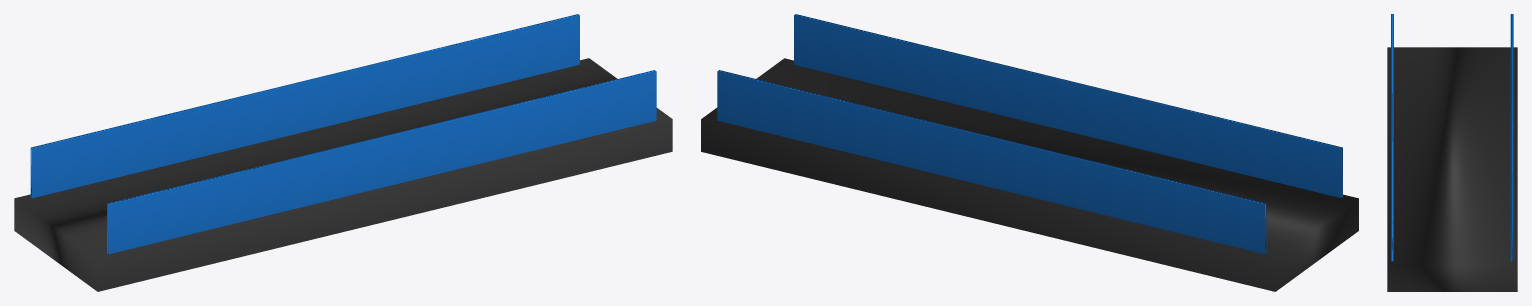
File: bridge.glb
3 views of the same model, side by side, from view 1: azimuth 30°, elevation 25°; view 2: azimuth 150°, elevation 25°; view 3: azimuth 270°, elevation 25° (orthographic). The views are drawn at different scales.
Visible parts, largest first — view 1: Cube, Cube.001, Cube.002; view 2: Cube, Cube.002, Cube.001; view 3: Cube, Cube.002, Cube.001.
Part boxes in pixels (x1=…): Cube: x1=14, y1=58, x2=672, y2=291; Cube.001: x1=107, y1=70, x2=656, y2=254; Cube.002: x1=30, y1=14, x2=579, y2=198; Cube: x1=701, y1=58, x2=1358, y2=291; Cube.002: x1=717, y1=70, x2=1266, y2=253; Cube.001: x1=794, y1=14, x2=1342, y2=197; Cube: x1=1387, y1=47, x2=1517, y2=291; Cube.002: x1=1510, y1=14, x2=1513, y2=261; Cube.001: x1=1391, y1=14, x2=1393, y2=261.
Size of the model in its own units: 103 by 14.06 by 25.94.
